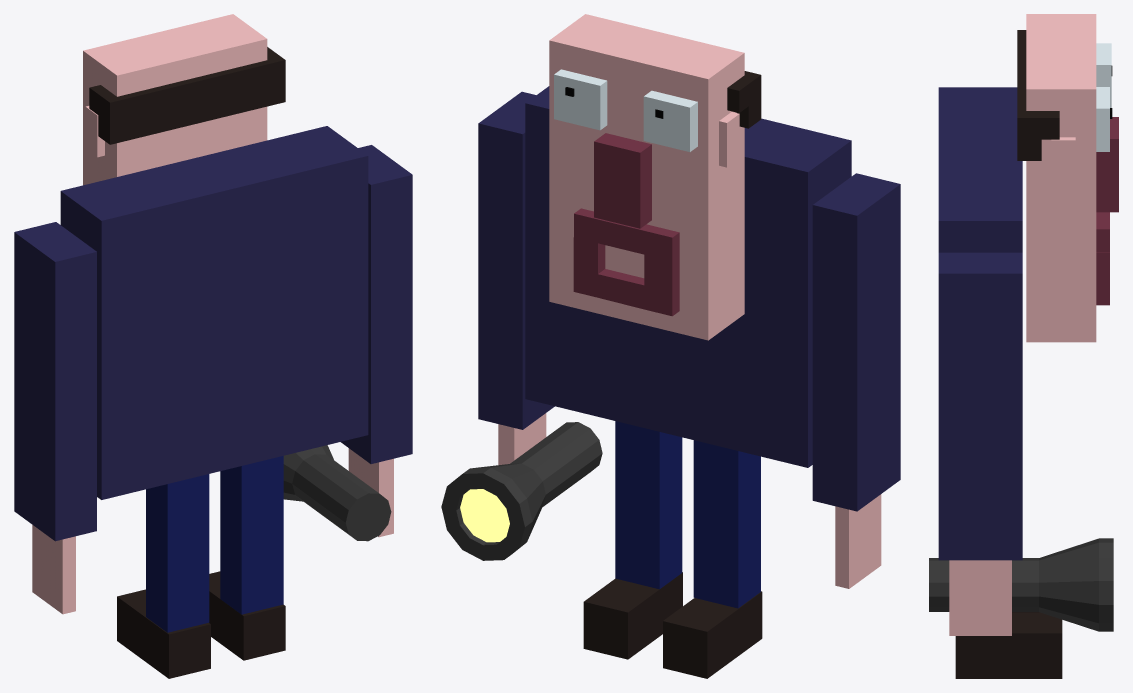
Rendered from Man.glb.
3 renders of one model, left to right at view 1: azimuth 30°, elevation 25°; view 2: azimuth 150°, elevation 25°; view 3: azimuth 270°, elevation 25°, orthographic. The views are drawn at different scales.
Visible parts, largest first — view 1: Cube, Cube.003, Cube.001, Cube.002, Cube.005, Cube.004, Cube.013, Cylinder, Cube.006, Cube.007, Cube.009, Cube.008 (+1 smaller); view 2: Cube, Cube.001, Cube.003, Cube.002, Cylinder, Cube.005, Cube.004, Cube.016, Cube.006, Cube.007, Cube.010, Cube.009 (+5 smaller); view 3: Cube.002, Cube.001, Cube, Cylinder, Cube.007, Cube.008, Cube.013, Cube.010, Cube.016, Cube.015, Cube.012, Cube.011.
Part boxes in pixels (x1,y1,x2,y2): Cube: (60,126,368,499); Cube.003: (14,222,96,541); Cube.001: (83,14,267,185); Cube.002: (341,145,412,463); Cube.005: (146,474,209,632); Cube.004: (220,456,283,614); Cube.013: (89,47,285,144); Cylinder: (283,445,391,541); Cube.006: (117,589,210,678); Cube.007: (209,571,285,660); Cube.009: (32,525,75,614); Cube.008: (348,448,393,537); Cube: (525,86,851,467); Cube.001: (549,14,744,340); Cube.003: (812,173,900,511); Cube.002: (478,91,554,429); Cylinder: (441,422,602,560); Cube.005: (693,440,760,608); Cube.004: (615,421,682,589); Cube.016: (573,208,679,316); Cube.006: (663,591,762,678); Cube.007: (583,572,682,659); Cube.010: (594,133,651,228); Cube.009: (835,494,881,588); Cube.002: (938,252,1022,560); Cube.001: (1026,14,1096,342); Cube: (938,87,1022,252); Cylinder: (929,538,1113,631); Cube.007: (955,612,1062,678); Cube.008: (949,560,1011,635); Cube.013: (1017,30,1059,160); Cube.010: (1096,117,1118,212); Cube.016: (1096,212,1109,305); Cube.015: (1051,137,1075,183); Cube.012: (1096,87,1109,151); Cube.011: (1096,43,1111,107).
Size of the model in its own units: 2.68 by 4.17 by 1.2.
